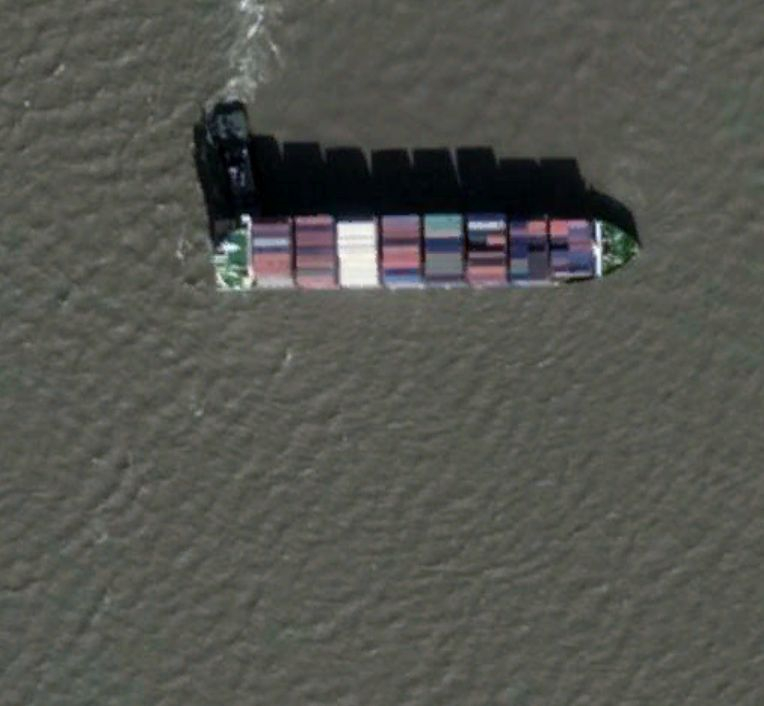boat: (199, 192, 644, 300)
